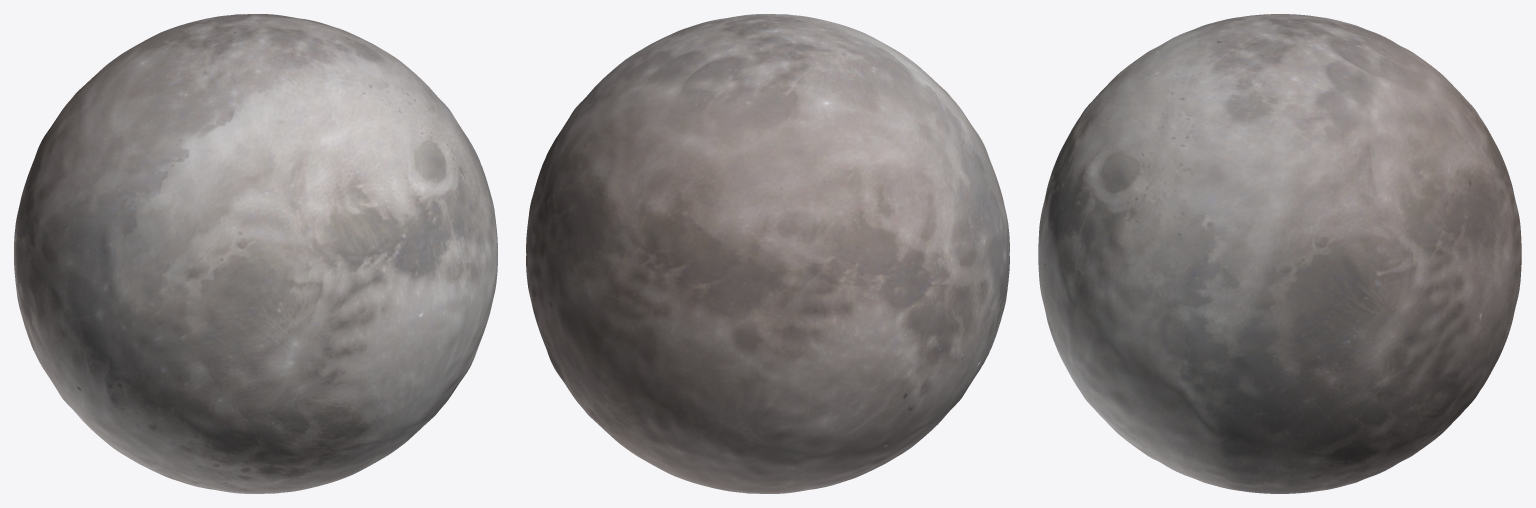
The model's file is moon.glb.
3 renders of one model, left to right at view 1: azimuth 30°, elevation 25°; view 2: azimuth 150°, elevation 25°; view 3: azimuth 270°, elevation 25°, orthographic.
Bounding box in the file's own units: 1.99 × 1.99 × 1.99.
Materials: 1 (1 with a texture image).
